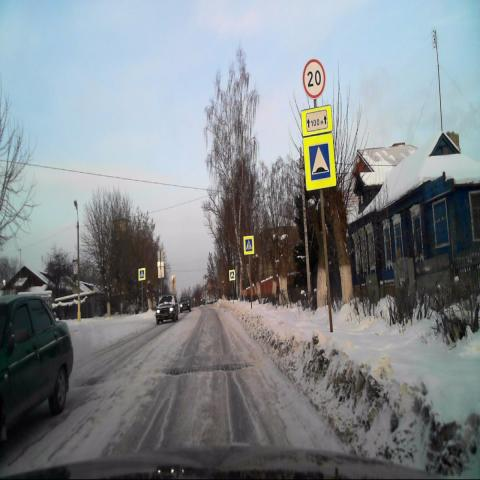8_2_1: (300, 105, 333, 137)
